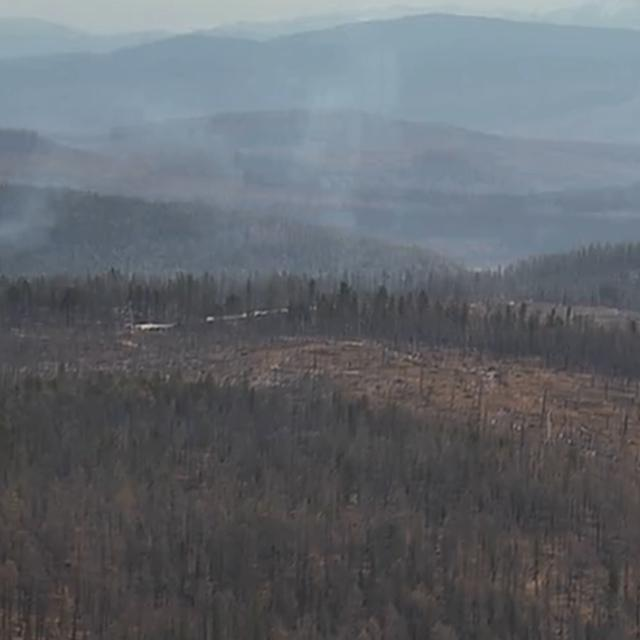Smoke: (0, 50, 446, 292)
